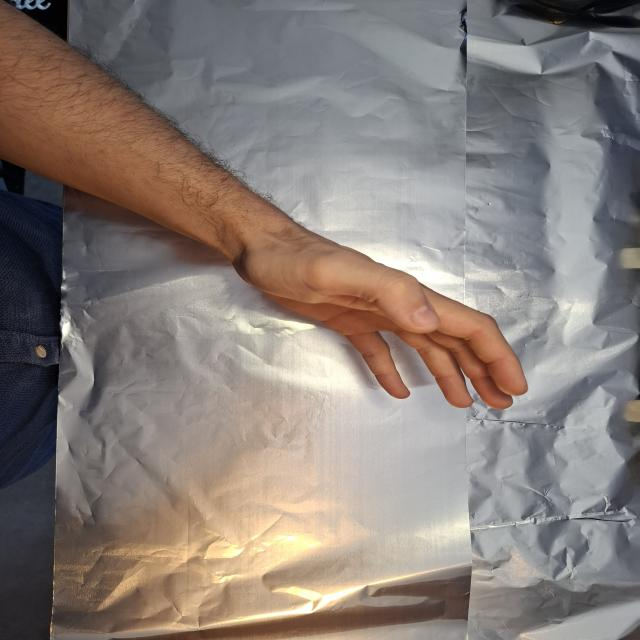glove_off: (225, 209, 527, 412)
